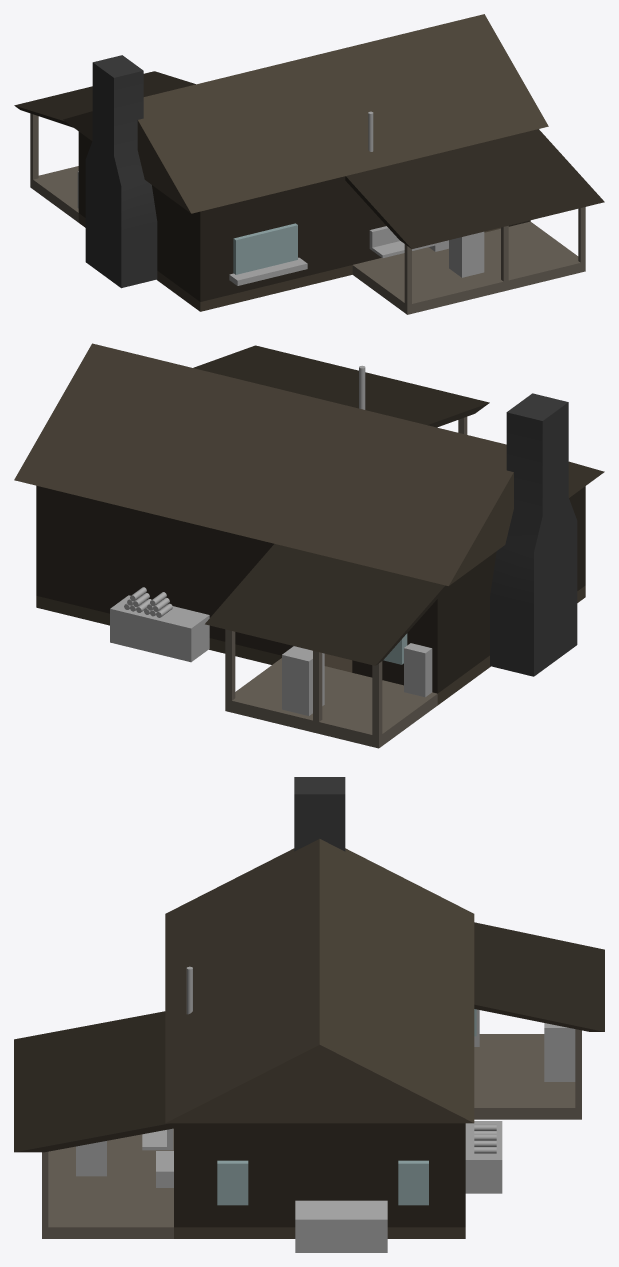
The model's file is Lodge-test2.fbx.
3 renders of one model, top to bottom at view 1: azimuth 30°, elevation 25°; view 2: azimuth 150°, elevation 25°; view 3: azimuth 270°, elevation 25°, orthographic. The views are drawn at different scales.
Visible parts, largest first — view 1: pCylinder29; view 2: pCylinder29; view 3: pCylinder29.
Boxes of the visible parts, x1=… form: pCylinder29: x1=14, y1=14, x2=604, y2=314; pCylinder29: x1=14, y1=343, x2=604, y2=748; pCylinder29: x1=14, y1=777, x2=604, y2=1252.
Size of the model in its own units: 17.57 by 8.83 by 19.12.
